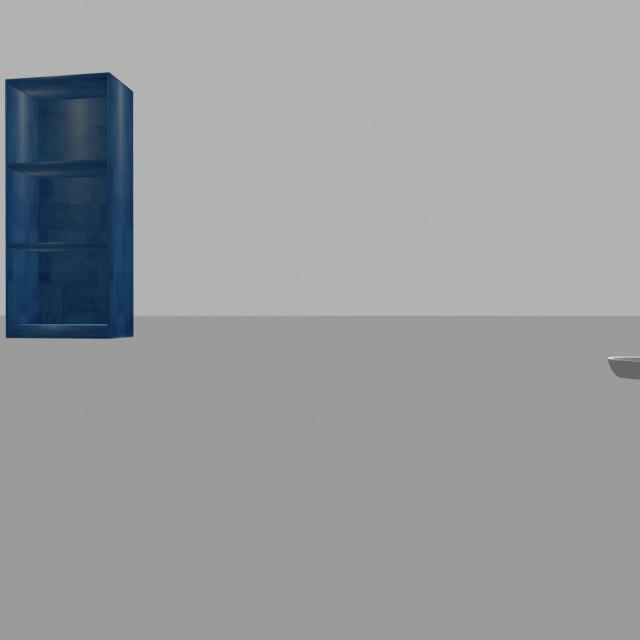bowl: (603, 341, 640, 382)
shelf: (0, 56, 150, 351)
